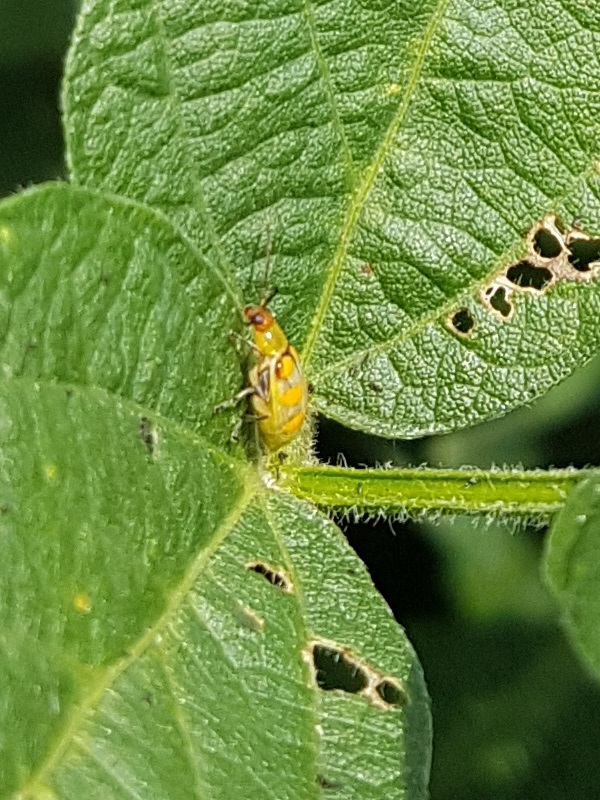Diabrotica_speciosa: (193, 264, 338, 478)
